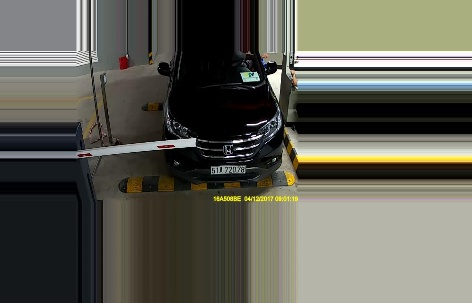plate: (209, 163, 246, 175)
